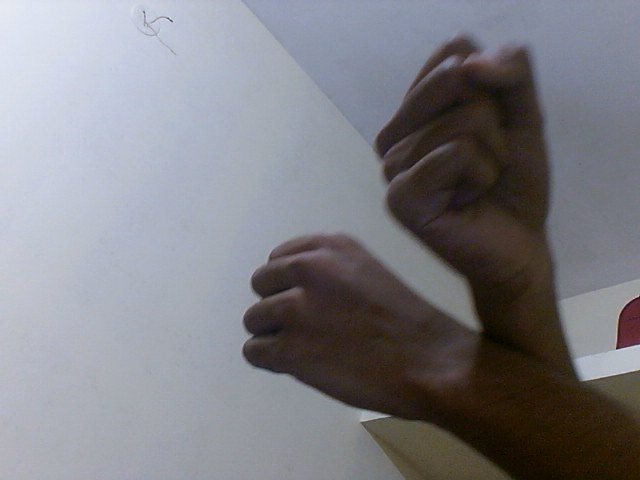hand: (370, 29, 558, 294), (237, 228, 479, 422)
